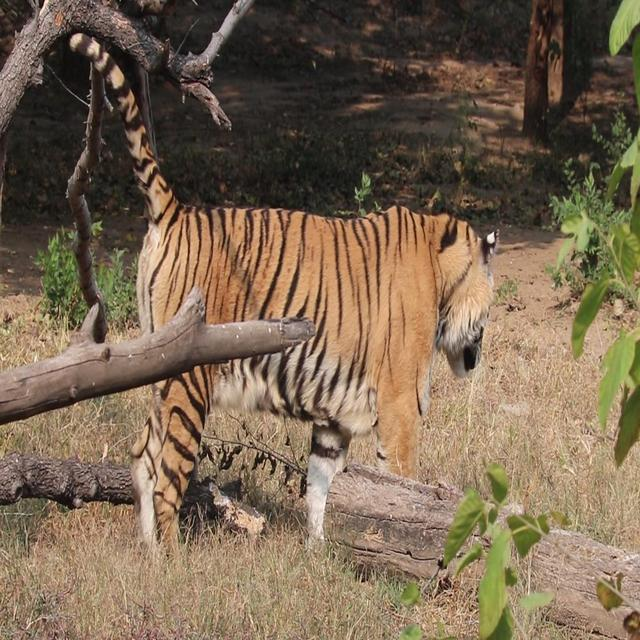tiger: (66, 28, 500, 567)
